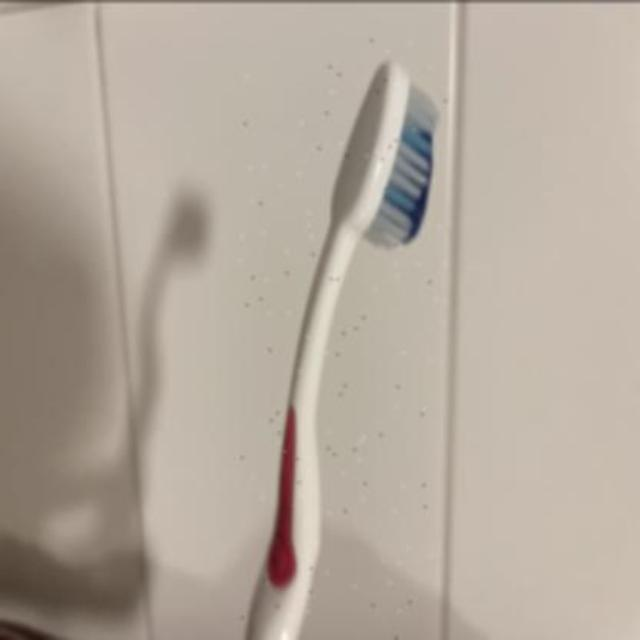toothbrush: (240, 38, 450, 640)
